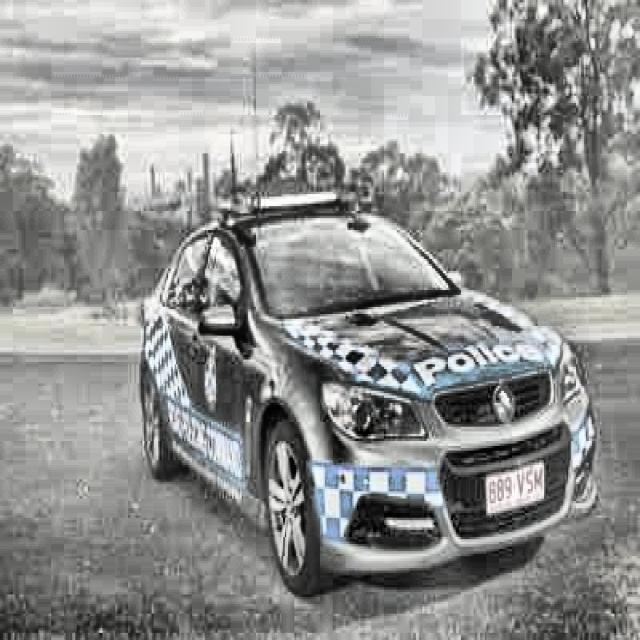license_plate: (484, 464, 544, 507)
